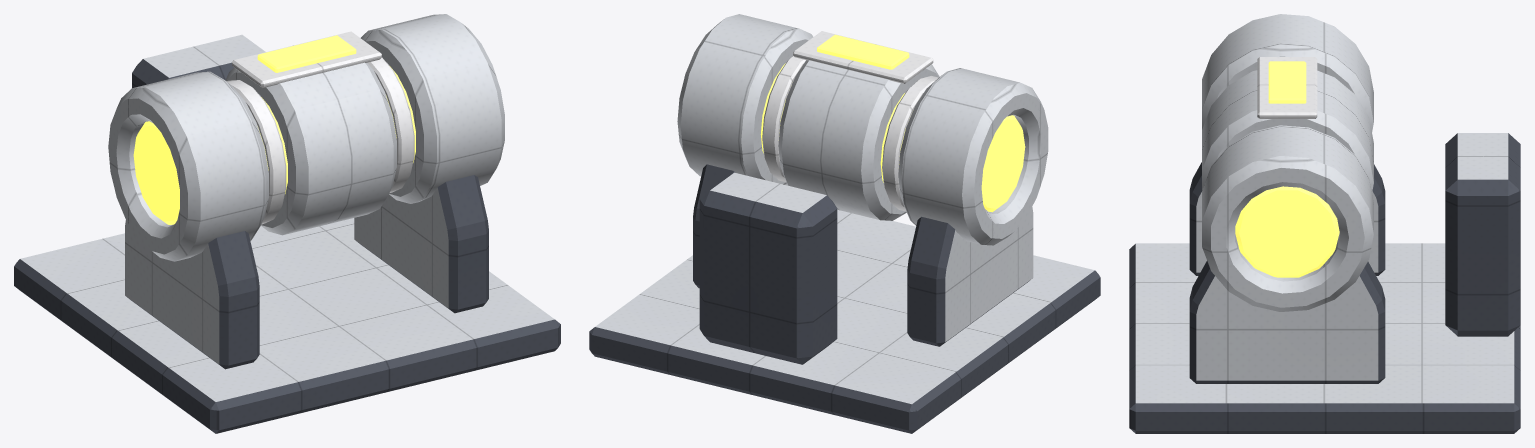
Rendered from R4X_Battery_LOD1.glb.
3 views of the same model, side by side, from view 1: azimuth 30°, elevation 25°; view 2: azimuth 150°, elevation 25°; view 3: azimuth 270°, elevation 25° (orthographic). The views are drawn at different scales.
Visible parts, largest first — view 1: R4X_Battery_LOD1; view 2: R4X_Battery_LOD1; view 3: R4X_Battery_LOD1.
Part boxes in pixels (x1,y1,x2,y2): R4X_Battery_LOD1: (14,14,560,433); R4X_Battery_LOD1: (589,14,1100,433); R4X_Battery_LOD1: (1129,14,1520,433).
Bounding box in the file's own units: 0.52 × 0.402 × 0.52.
Materials: 4 (3 with a texture image).
